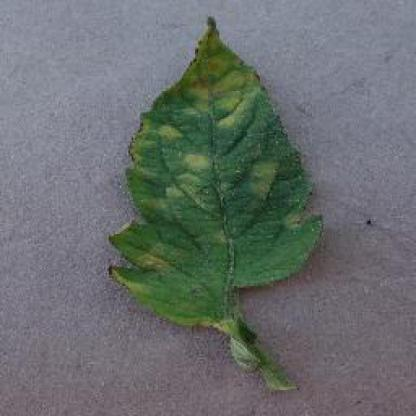Tomato_Leaf_Mold: (111, 17, 322, 326)
